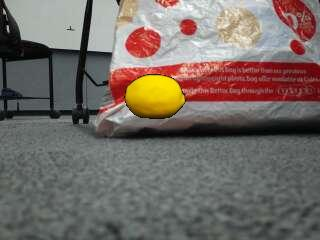lemon: (127, 76, 185, 119)
